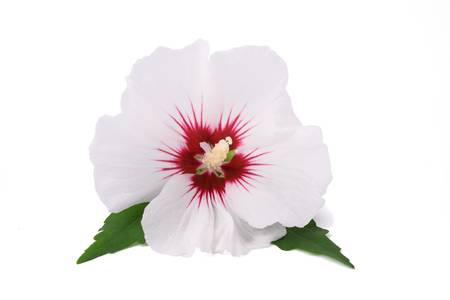Hibiscus: (103, 27, 334, 264)
